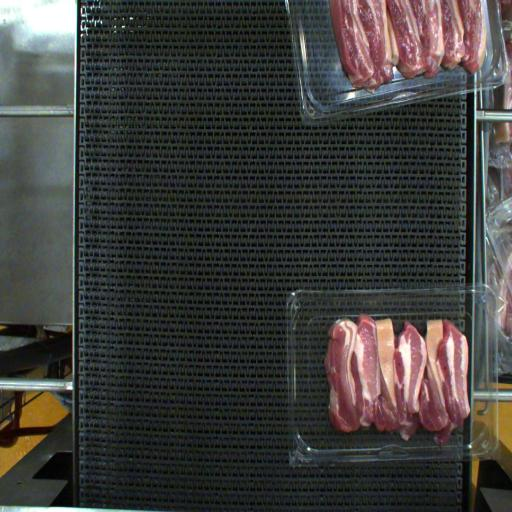twisted-meat: (372, 321, 410, 441), (421, 324, 444, 430)
